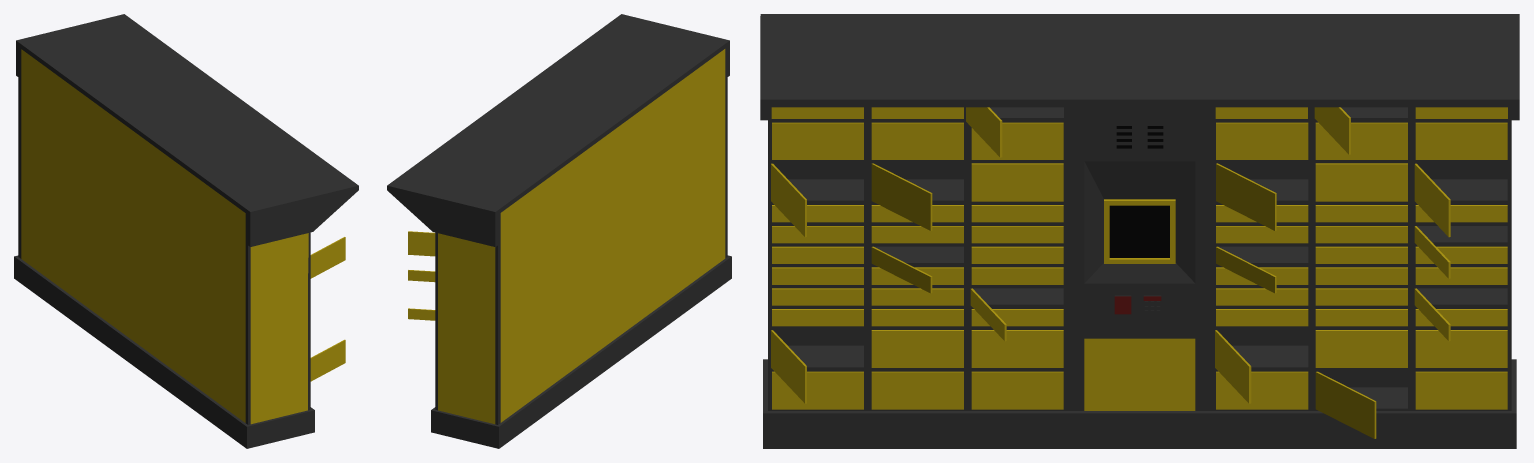
Rendered from paczkomat_zniszczony.fbx.
3 views of the same model, side by side, from view 1: azimuth 30°, elevation 25°; view 2: azimuth 150°, elevation 25°; view 3: azimuth 270°, elevation 25° (orthographic). The views are drawn at different scales.
Visible parts, largest first — view 1: Cube.001; view 2: Cube.001; view 3: Cube.001.
Part boxes in pixels (box(x1,y1,x2,y2)): Cube.001: box(14, 14, 358, 448); Cube.001: box(387, 14, 731, 448); Cube.001: box(760, 14, 1519, 448).
Size of the model in its own units: 114 by 224 by 402.
